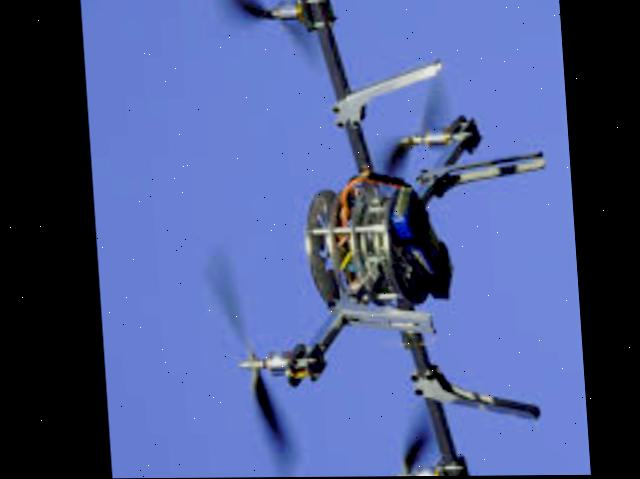drone: (203, 0, 562, 478)
